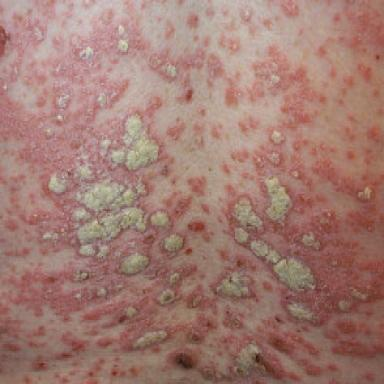Psoriasis: (0, 1, 384, 382)
